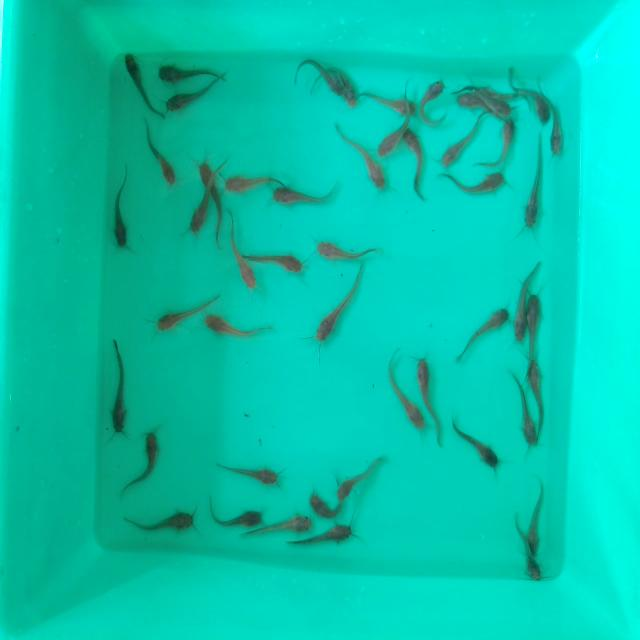lele: (314, 274, 361, 351), (388, 346, 425, 430), (460, 304, 512, 355), (509, 520, 544, 584), (294, 53, 340, 101), (348, 134, 386, 192), (454, 423, 501, 469), (527, 470, 553, 552), (418, 353, 441, 444), (336, 459, 382, 502), (144, 131, 178, 187), (523, 151, 547, 229), (253, 243, 306, 278), (108, 344, 128, 436), (129, 428, 160, 486), (150, 299, 207, 330), (509, 379, 537, 442), (121, 52, 151, 110), (232, 226, 256, 297), (364, 85, 417, 117), (315, 240, 378, 266), (519, 73, 549, 126), (126, 508, 194, 531), (440, 124, 476, 167), (202, 314, 268, 337), (404, 130, 426, 198), (271, 183, 336, 206), (444, 172, 506, 196), (510, 268, 530, 342), (163, 86, 213, 115), (300, 520, 354, 546), (211, 502, 264, 528), (159, 60, 216, 84), (490, 119, 520, 163), (198, 152, 222, 206), (216, 466, 280, 486), (530, 357, 550, 420), (420, 78, 445, 128), (264, 511, 312, 537), (112, 179, 130, 247), (527, 292, 544, 362), (306, 488, 343, 519), (188, 192, 209, 242), (378, 118, 405, 156), (338, 66, 360, 110), (549, 100, 565, 157), (226, 173, 270, 193), (485, 78, 521, 101), (447, 91, 484, 111), (482, 100, 514, 117)
